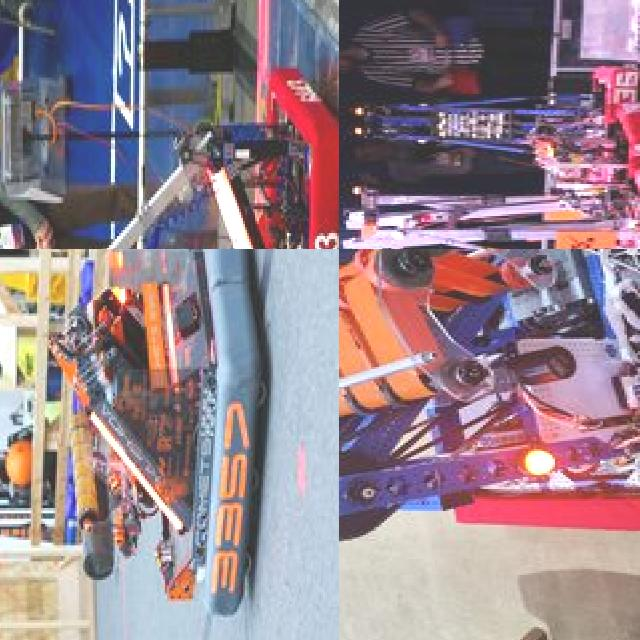FRC-Robots: (0, 249, 284, 640), (339, 249, 640, 580), (0, 73, 339, 249), (339, 145, 640, 249), (346, 51, 640, 151), (533, 88, 640, 182)
